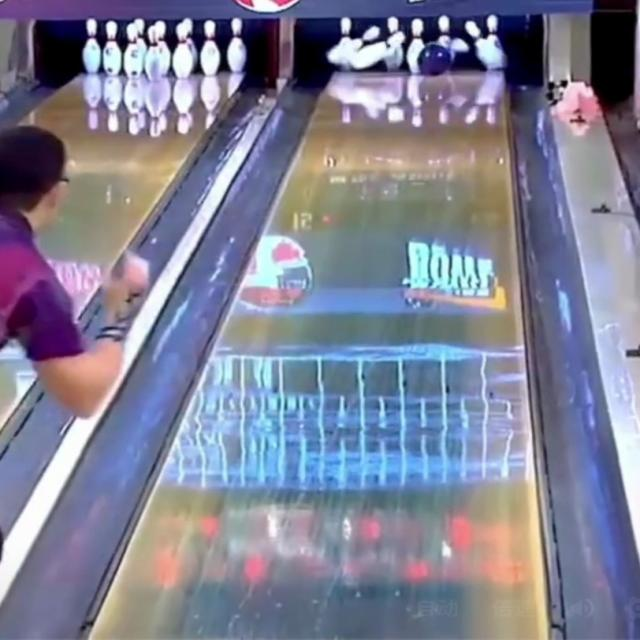alley: (91, 73, 546, 639)
balls: (420, 43, 452, 74)
bottle: (326, 17, 431, 73), (464, 15, 504, 69), (434, 15, 469, 60)
